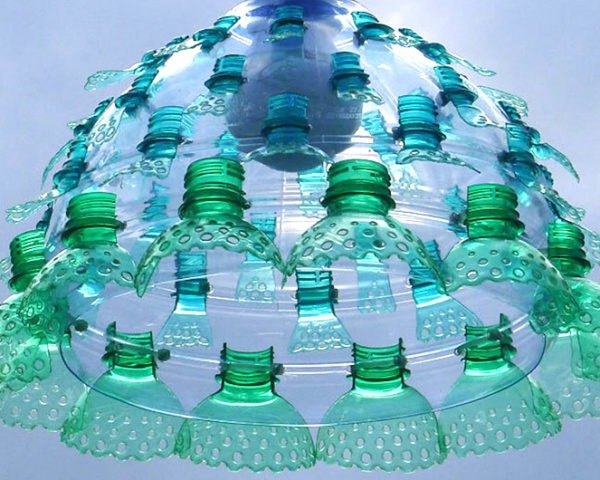plastic_bottle: (132, 109, 363, 367), (275, 126, 515, 349), (24, 156, 251, 375), (3, 211, 198, 441), (169, 301, 326, 480), (424, 160, 561, 356), (297, 307, 450, 480), (426, 286, 562, 477), (540, 147, 600, 446)
